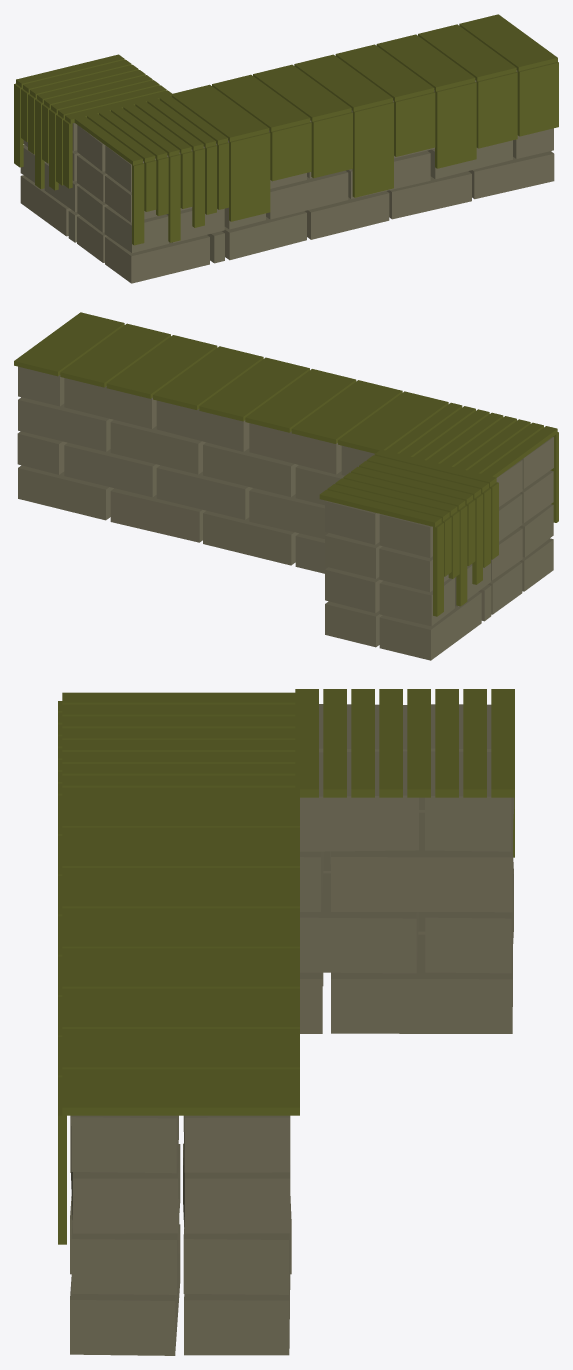
The model's file is SM_SacosRemate_v4_Red_e0_Sano_LOD0.fbx.
The picture shows the model from 3 angles, top to bottom: view 1: azimuth 30°, elevation 25°; view 2: azimuth 150°, elevation 25°; view 3: azimuth 270°, elevation 25°; orthographic projection. The views are drawn at different scales.
Parts seen in each view (by area): view 1: SM_sacos_piezas_v36_LOD0; view 2: SM_sacos_piezas_v36_LOD0; view 3: SM_sacos_piezas_v36_LOD0.
Part boxes in pixels (<box>): SM_sacos_piezas_v36_LOD0: <box>14,14,558,283</box>; SM_sacos_piezas_v36_LOD0: <box>14,312,558,660</box>; SM_sacos_piezas_v36_LOD0: <box>58,689,514,1355</box>.
Size of the model in its own units: 4.44 by 1.23 by 2.04.
